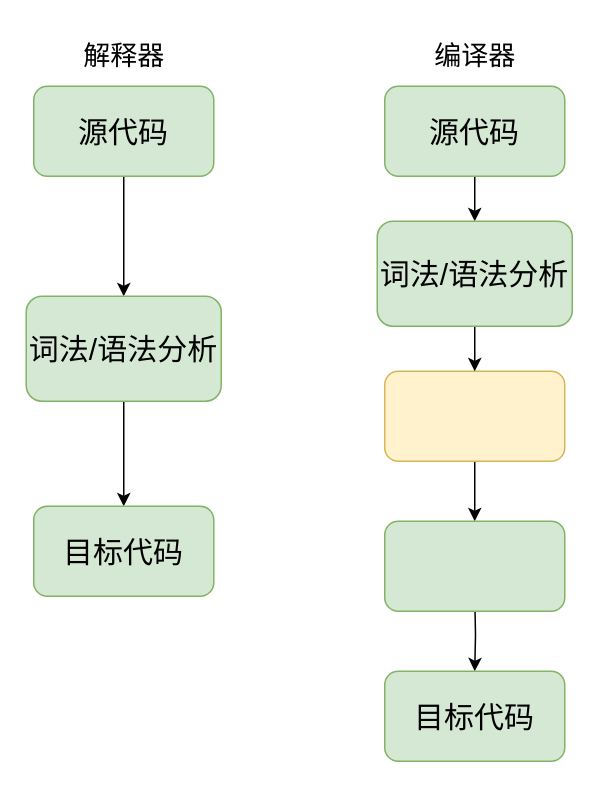
Some shapes in this 599 by 788 pixel diagram are drawn without their labels. The shapes that lost their labels are listed below. From the top down, each one's centre as x and y in pixels, then its label:
At (x=474, y=415): "中间代码".
At (x=474, y=565): "语义分析 与优化".
